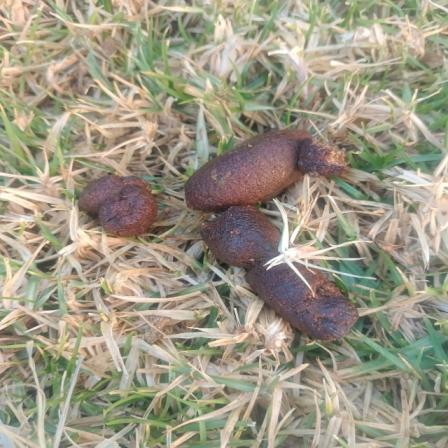dog-poop: (185, 122, 371, 350), (80, 162, 166, 240)
